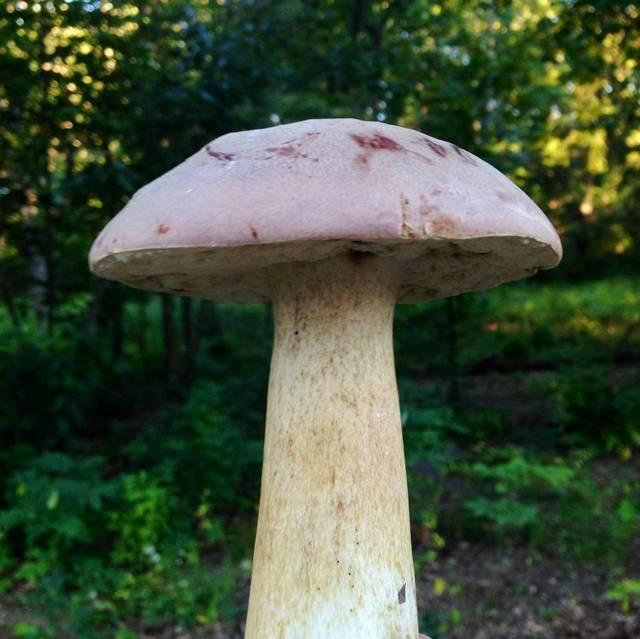Non-edible Mushroom: (86, 115, 564, 638)
